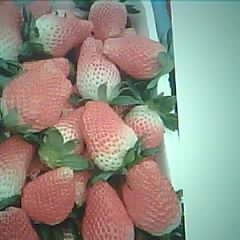straw-ripe: (2, 65, 70, 131), (123, 160, 181, 235), (81, 181, 133, 240), (22, 168, 76, 224), (106, 36, 168, 80)
straw-unripe: (83, 101, 137, 170), (27, 15, 91, 57), (77, 37, 120, 99)
